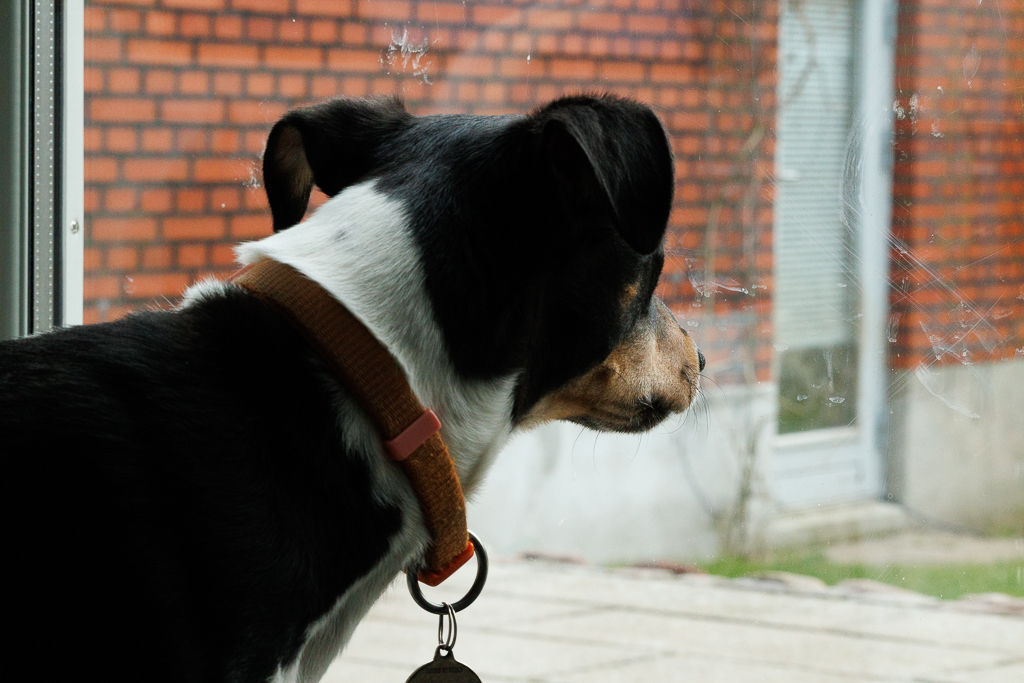Dog: (0, 83, 741, 683)
